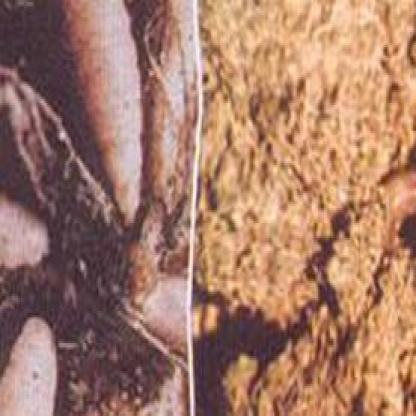whorl-maggot: (60, 0, 146, 225), (0, 315, 60, 416)
